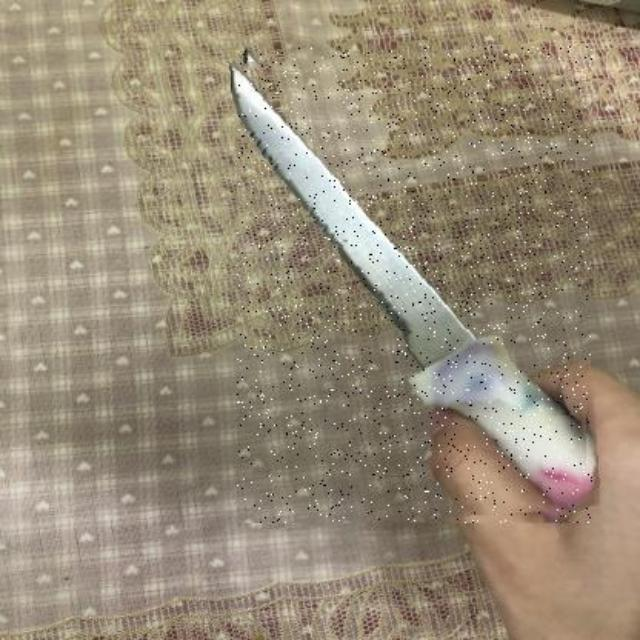Knife: (238, 47, 592, 523)
